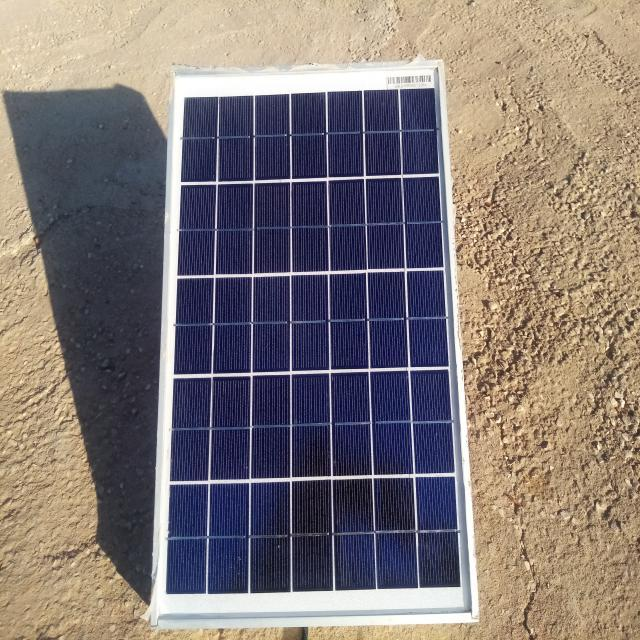no faulty: (151, 62, 477, 624)
